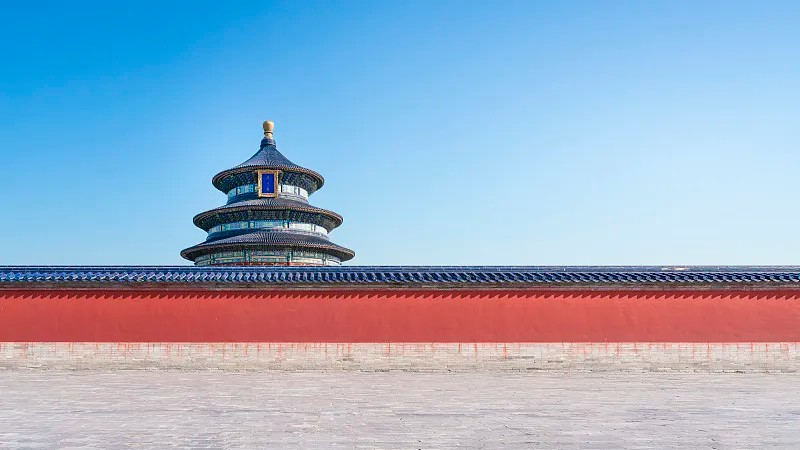Heaven: (181, 119, 354, 266)
